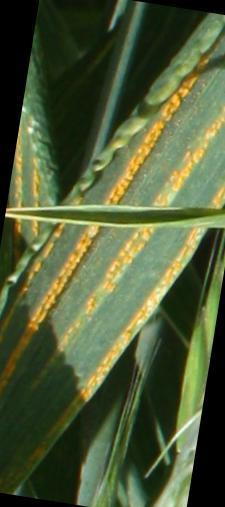Wheat: (93, 56, 218, 205), (3, 233, 108, 395)
